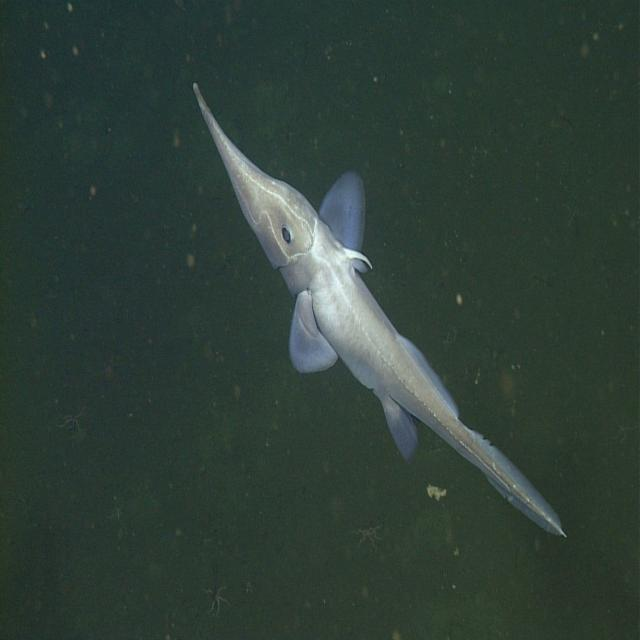Brittle Star: (348, 513, 386, 552), (199, 576, 234, 617), (54, 398, 91, 432)
Not Brittle Star: (190, 77, 570, 542)
